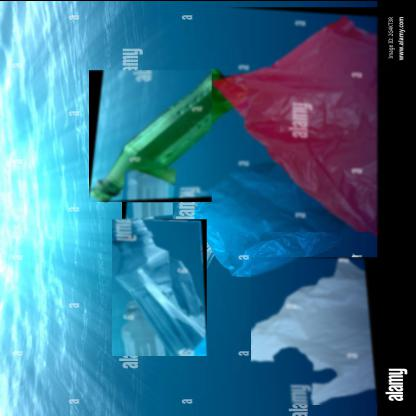bottle: (89, 68, 238, 201), (112, 217, 208, 355), (122, 170, 174, 274)
plastic-bag: (212, 5, 388, 231), (251, 255, 382, 404)
